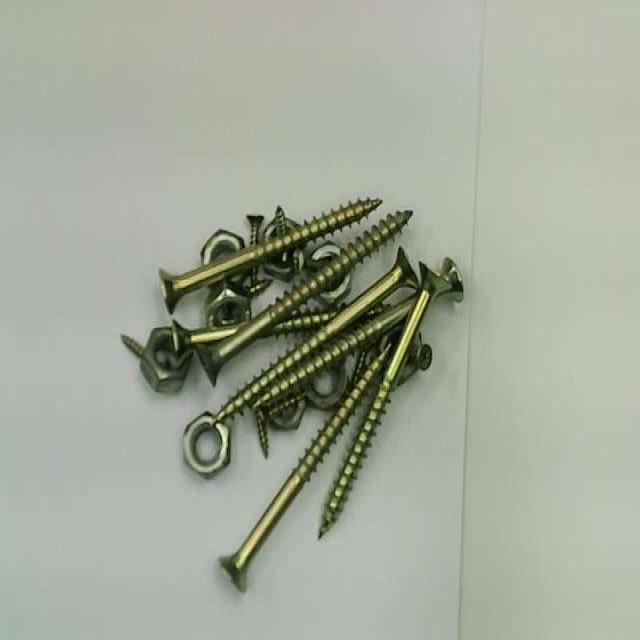Parafuso: (220, 348, 387, 591), (319, 260, 462, 535), (213, 212, 411, 381), (245, 248, 416, 403), (159, 199, 380, 313), (253, 299, 412, 410), (170, 320, 248, 351), (397, 334, 431, 385), (350, 348, 367, 385), (256, 411, 268, 458), (120, 334, 143, 358), (247, 215, 263, 246), (275, 206, 286, 235)
Porca: (121, 327, 192, 393), (183, 412, 230, 477), (205, 282, 250, 327), (306, 360, 346, 409), (396, 334, 432, 385), (201, 230, 244, 265), (263, 246, 303, 281), (269, 394, 306, 430), (319, 274, 351, 306)
